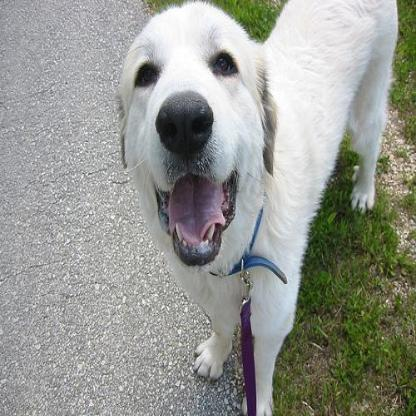Great_Pyrenees: (115, 1, 398, 414)
